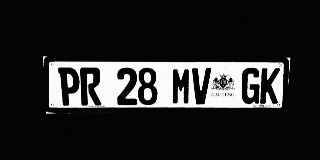2: (117, 68, 137, 105)
8: (138, 68, 157, 105)
G: (241, 68, 261, 104)
K: (260, 68, 280, 104)
M: (171, 68, 191, 105)
P: (58, 67, 80, 106)
R: (80, 67, 101, 105)
V: (191, 68, 211, 104)
